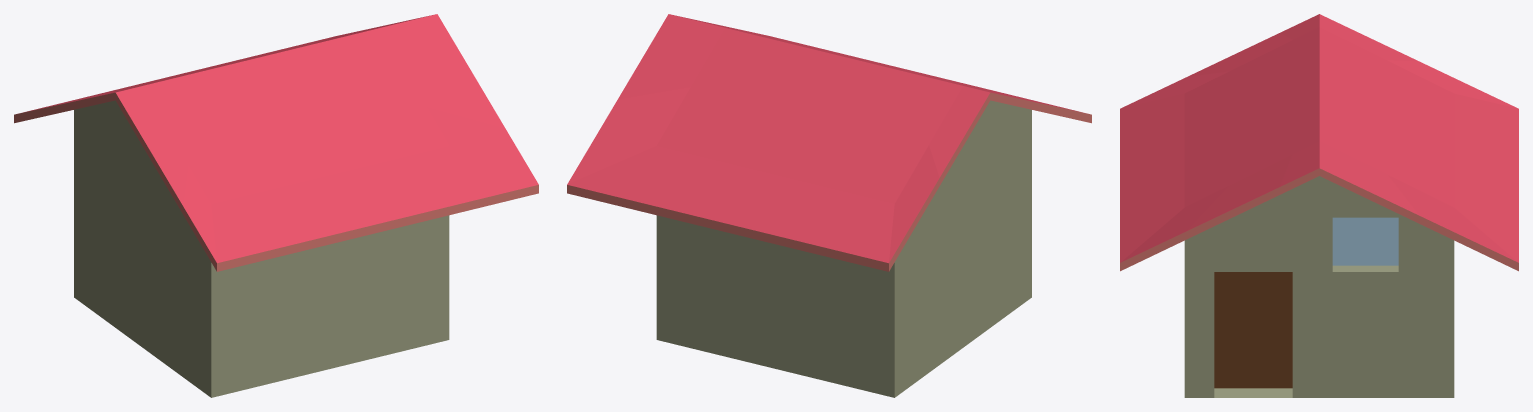
Rendered from House.fbx.
3 renders of one model, left to right at view 1: azimuth 30°, elevation 25°; view 2: azimuth 150°, elevation 25°; view 3: azimuth 270°, elevation 25°, orthographic.
Visible parts, largest first — view 1: Cube; view 2: Cube; view 3: Cube.
Part boxes in pixels (<box>): Cube: <box>14,14,538,397</box>; Cube: <box>567,14,1091,397</box>; Cube: <box>1120,14,1518,397</box>.
Size of the model in its own units: 569 by 444 by 622.
